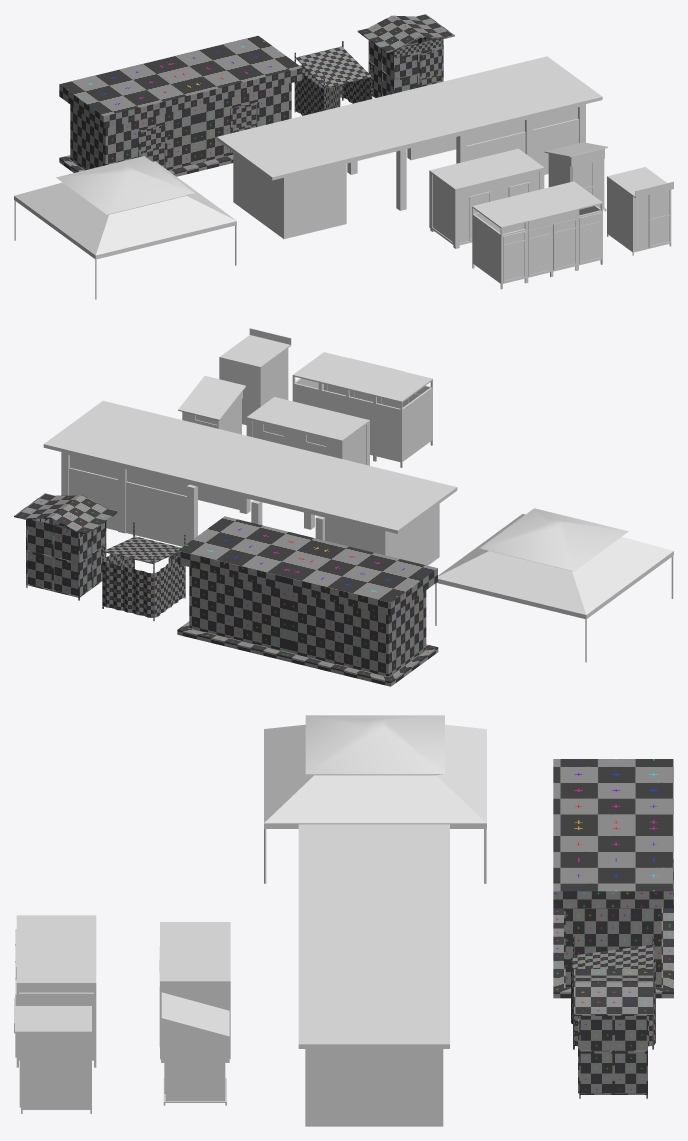
File: All Rooms.fbx
3 renders of one model, top to bottom at view 1: azimuth 30°, elevation 25°; view 2: azimuth 150°, elevation 25°; view 3: azimuth 270°, elevation 25°, orthographic. The views are drawn at different scales.
Visible parts, largest first — view 1: Rest room 01, Door 02, Circle.002, Cube.004, Cube.001, Cube, Cube.003, Circle, Cube.002; view 2: Rest room 01, Door 02, Circle.002, Cube.004, Cube, Circle, Cube.001, Cube.003, Cube.002; view 3: Rest room 01, Door 02, Circle.002, Cube, Cube.004, Cube.003, Cube.002, Cube.001, Circle.
Boxes of the visible parts, box(x1,y1,x2,y2) form: Rest room 01: box(217, 56, 602, 239); Door 02: box(59, 35, 302, 176); Circle.002: box(14, 156, 236, 299); Cube.004: box(472, 181, 602, 289); Cube.001: box(429, 148, 544, 248); Cube: box(357, 14, 454, 97); Cube.003: box(607, 167, 673, 255); Circle: box(294, 41, 372, 115); Cube.002: box(544, 142, 607, 211); Rest room 01: box(43, 401, 457, 565); Door 02: box(177, 516, 438, 686); Circle.002: box(435, 508, 673, 662); Cube.004: box(292, 352, 432, 467); Cube: box(14, 493, 118, 600); Circle: box(102, 522, 185, 620); Cube.001: box(246, 397, 369, 465); Cube.003: box(219, 328, 291, 425); Cube.002: box(178, 376, 246, 434); Rest room 01: box(298, 824, 449, 1126); Door 02: box(553, 759, 673, 998); Circle.002: box(264, 715, 486, 883); Cube: box(574, 969, 652, 1098); Cube.004: box(15, 915, 96, 1067); Cube.003: box(14, 998, 91, 1113); Cube.002: box(161, 992, 229, 1105); Cube.001: box(159, 922, 230, 1062); Circle: box(571, 936, 655, 1049).
Size of the model in its own units: 2385 by 363 by 1922.
4 materials, 1 textured.
